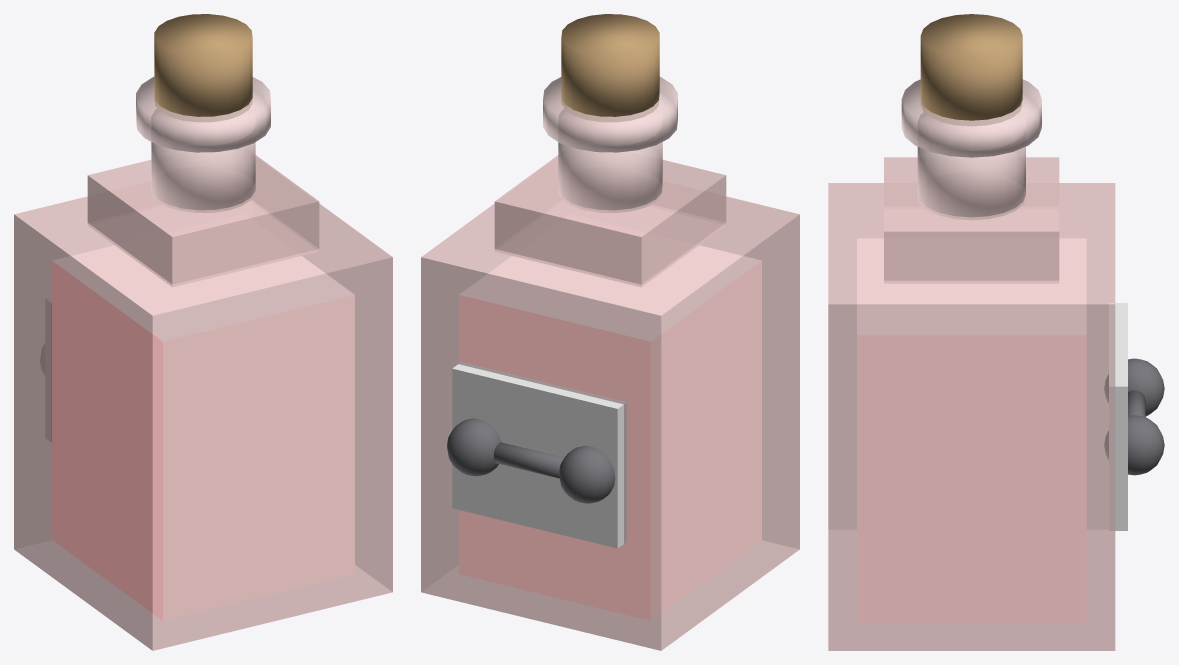
The model's file is StrengthPotion.fbx.
3 views of the same model, side by side, from view 1: azimuth 30°, elevation 25°; view 2: azimuth 150°, elevation 25°; view 3: azimuth 270°, elevation 25° (orthographic). The views are drawn at different scales.
Visible parts, largest first — view 1: StrengthPotion.Body, StrengthPotion.Liquid, StrengthPotion.Shoulder, StrengthPotion.Cork, StrengthPotion.Neck, StrengthPotion.Lip; view 2: StrengthPotion.Body, StrengthPotion.Liquid, StrengthPotion.Shoulder, StrengthPotion.Label, StrengthPotion.Cork, StrengthPotion.Neck, StrengthPotion.Lip, StrengthPotion.PlateL, StrengthPotion.PlateR, StrengthPotion.Bar; view 3: StrengthPotion.Body, StrengthPotion.Liquid, StrengthPotion.Shoulder, StrengthPotion.Cork, StrengthPotion.Neck, StrengthPotion.Lip, StrengthPotion.Label, StrengthPotion.PlateR, StrengthPotion.PlateL.
Part boxes in pixels (bbox=[...]): StrengthPotion.Body: bbox=[14, 196, 392, 650]; StrengthPotion.Liquid: bbox=[52, 245, 354, 620]; StrengthPotion.Shoulder: bbox=[87, 155, 319, 286]; StrengthPotion.Cork: bbox=[154, 14, 252, 121]; StrengthPotion.Neck: bbox=[151, 109, 255, 212]; StrengthPotion.Lip: bbox=[136, 77, 270, 152]; StrengthPotion.Body: bbox=[421, 196, 799, 650]; StrengthPotion.Liquid: bbox=[459, 245, 761, 620]; StrengthPotion.Shoulder: bbox=[494, 155, 726, 286]; StrengthPotion.Label: bbox=[452, 362, 626, 548]; StrengthPotion.Cork: bbox=[561, 14, 659, 121]; StrengthPotion.Neck: bbox=[558, 109, 662, 212]; StrengthPotion.Lip: bbox=[543, 77, 677, 152]; StrengthPotion.PlateL: bbox=[559, 445, 615, 503]; StrengthPotion.PlateR: bbox=[447, 418, 501, 476]; StrengthPotion.Bar: bbox=[494, 442, 563, 478]; StrengthPotion.Body: bbox=[828, 183, 1115, 650]; StrengthPotion.Liquid: bbox=[857, 238, 1086, 623]; StrengthPotion.Shoulder: bbox=[884, 157, 1059, 283]; StrengthPotion.Cork: bbox=[920, 14, 1022, 125]; StrengthPotion.Neck: bbox=[917, 112, 1025, 219]; StrengthPotion.Lip: bbox=[901, 79, 1041, 157]; StrengthPotion.Label: bbox=[1109, 303, 1127, 530]; StrengthPotion.PlateR: bbox=[1104, 415, 1164, 475]; StrengthPotion.PlateL: bbox=[1104, 358, 1164, 416].
Bounding box in the file's own units: 0.9 × 1.92 × 1.06.
